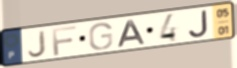4: (156, 13, 181, 44)
A: (116, 18, 147, 49)
F: (51, 24, 79, 57)
G: (88, 21, 115, 52)
J: (187, 9, 210, 39), (27, 29, 48, 59)
